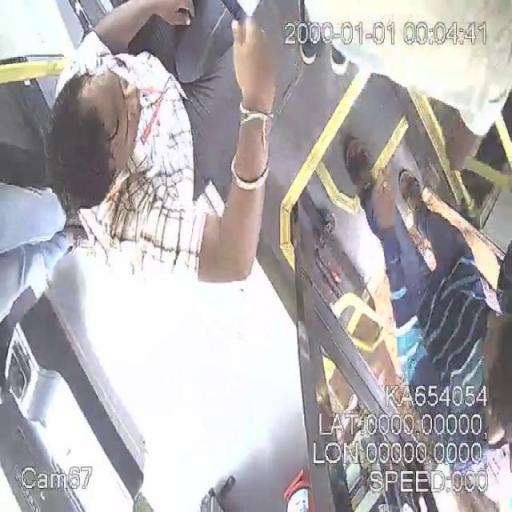persona: (43, 1, 281, 285), (343, 128, 512, 512)
